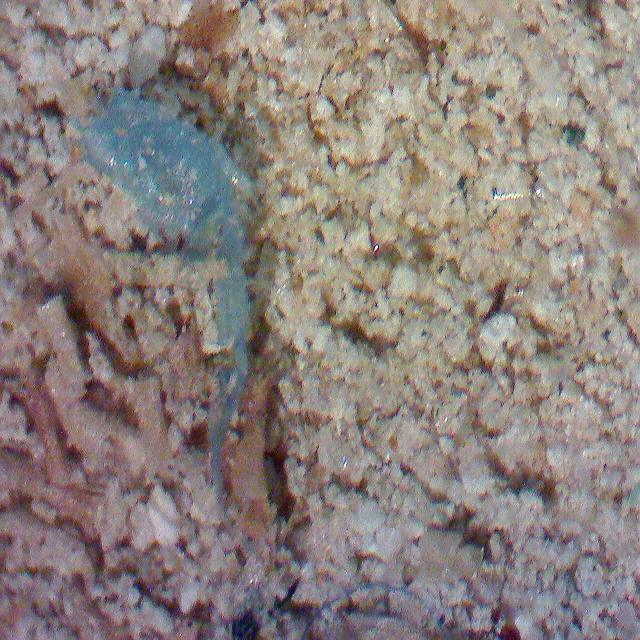microplastic: (83, 86, 253, 534)
